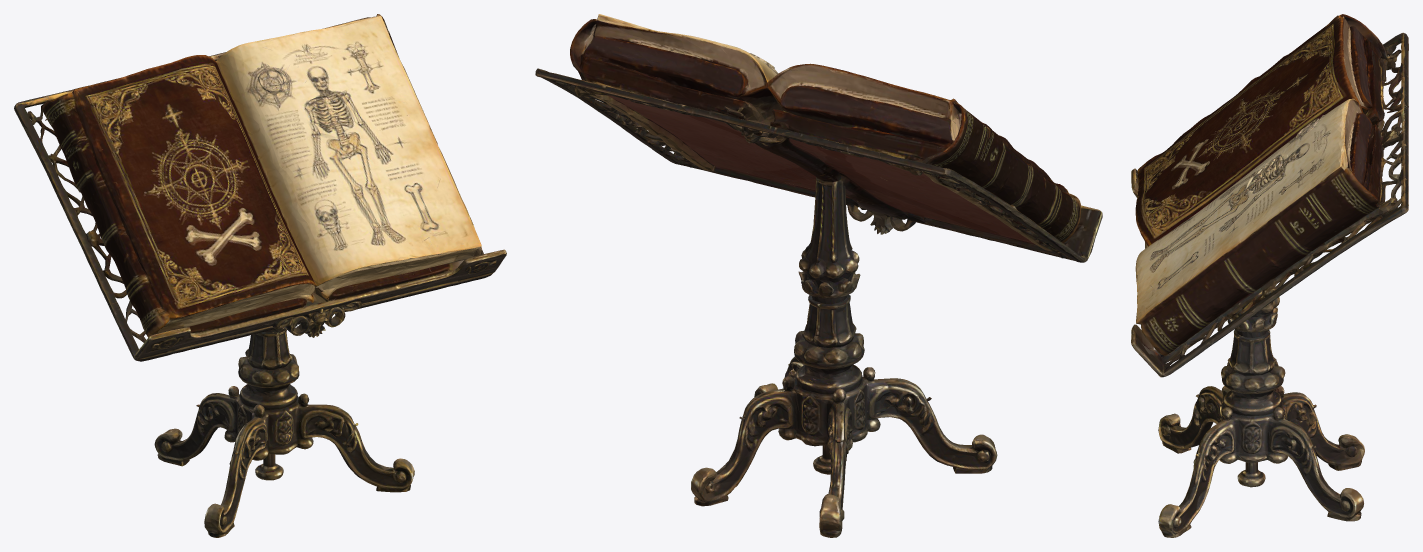
The model's file is grimoire_lectern.glb.
3 renders of one model, left to right at view 1: azimuth 30°, elevation 25°; view 2: azimuth 150°, elevation 25°; view 3: azimuth 270°, elevation 25°, orthographic. The views are drawn at different scales.
Parts seen in each view (by area): view 1: world; view 2: world; view 3: world.
Part boxes in pixels (left/top/right/bottom): world: left=14, top=14, right=506, bottom=537; world: left=535, top=14, right=1102, bottom=537; world: left=1131, top=14, right=1408, bottom=537.
Size of the model in its own units: 1.87 by 1.98 by 1.24.
Materials: 1 (1 with a texture image).
